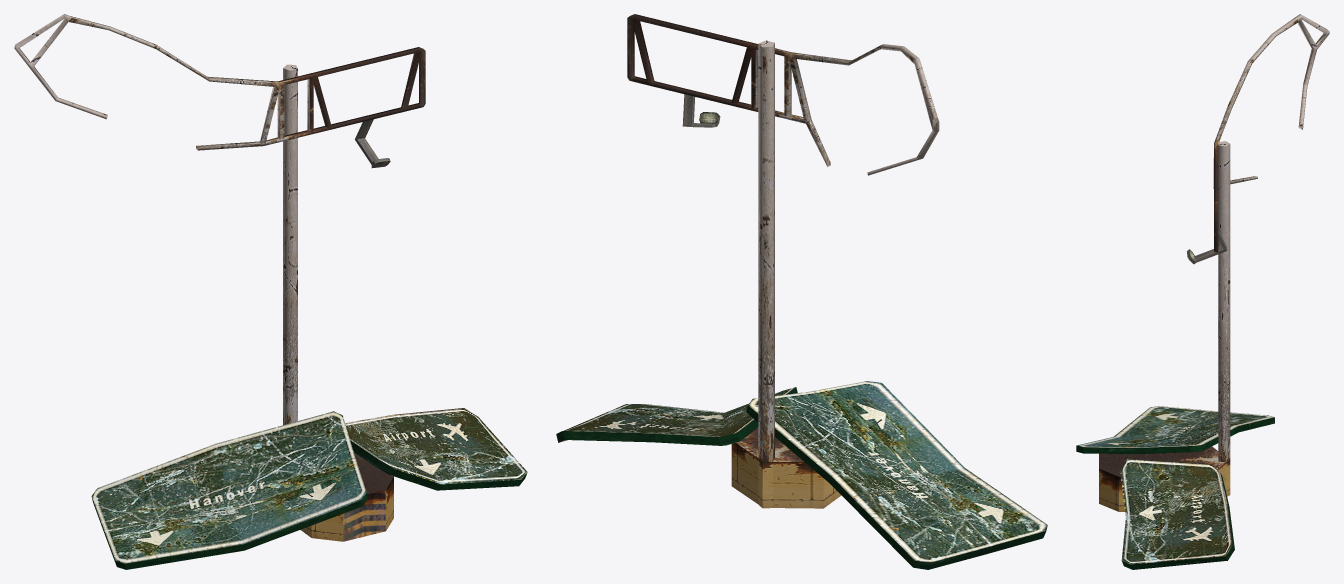
The model's file is Model_RoadSign_03.fbx.
The picture shows the model from 3 angles, left to right: view 1: azimuth 30°, elevation 25°; view 2: azimuth 150°, elevation 25°; view 3: azimuth 270°, elevation 25°; orthographic projection. The views are drawn at different scales.
Parts seen in each view (by area): view 1: roadSign3; view 2: roadSign3; view 3: roadSign3.
Boxes of the visible parts, x1,y1,x2,y2 form: roadSign3: [14, 14, 527, 569]; roadSign3: [556, 14, 1047, 569]; roadSign3: [1076, 14, 1329, 569].
Bounding box in the file's own units: 610 × 699 × 391.
